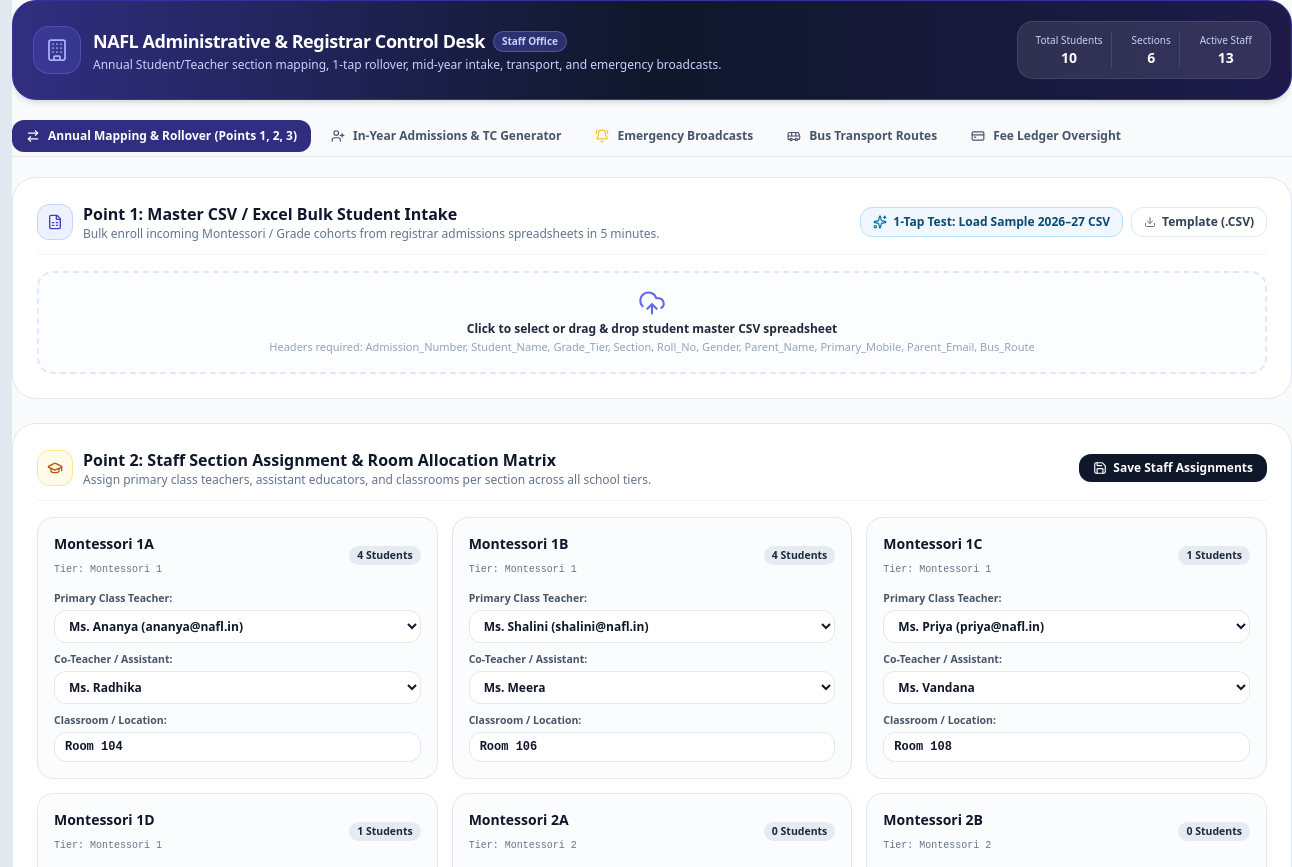
Test: Suite L: Admin Assistant & Registrar Operations (Annual Mapping & In-Year Admin) › Point 1: loads, parses, and commits master CSV student intake spreadsheet
Check: the text "Parsed Intake Preview" is not shown
Click 1-tap test load sample CSV button
Click the button "1-Tap Test: Load Sample 2026–27 CSV" at (992, 222), box [860,207,1123,237]
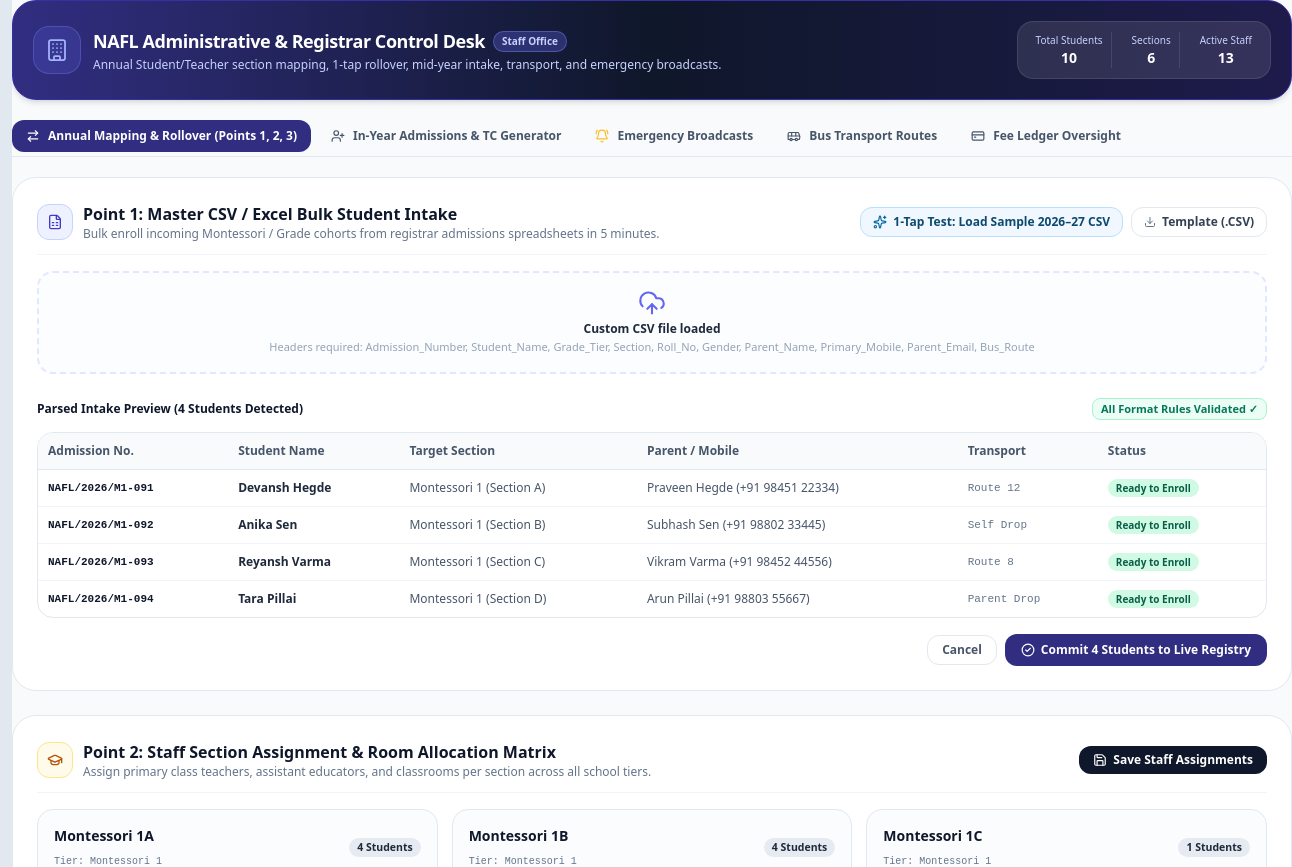
Check: the text "Parsed Intake Preview (4 Students Detected)" is shown, box [37,400,303,416]
Check: the text "All Format Rules Validated ✓" is shown, box [1092,398,1267,420]
Check: the text "NAFL/2026/M1-091" is shown, box [38,469,228,506]
Click Commit button
Click the button "Commit 4 Students to Live Registry" at (1136, 650), box [1005,634,1267,666]
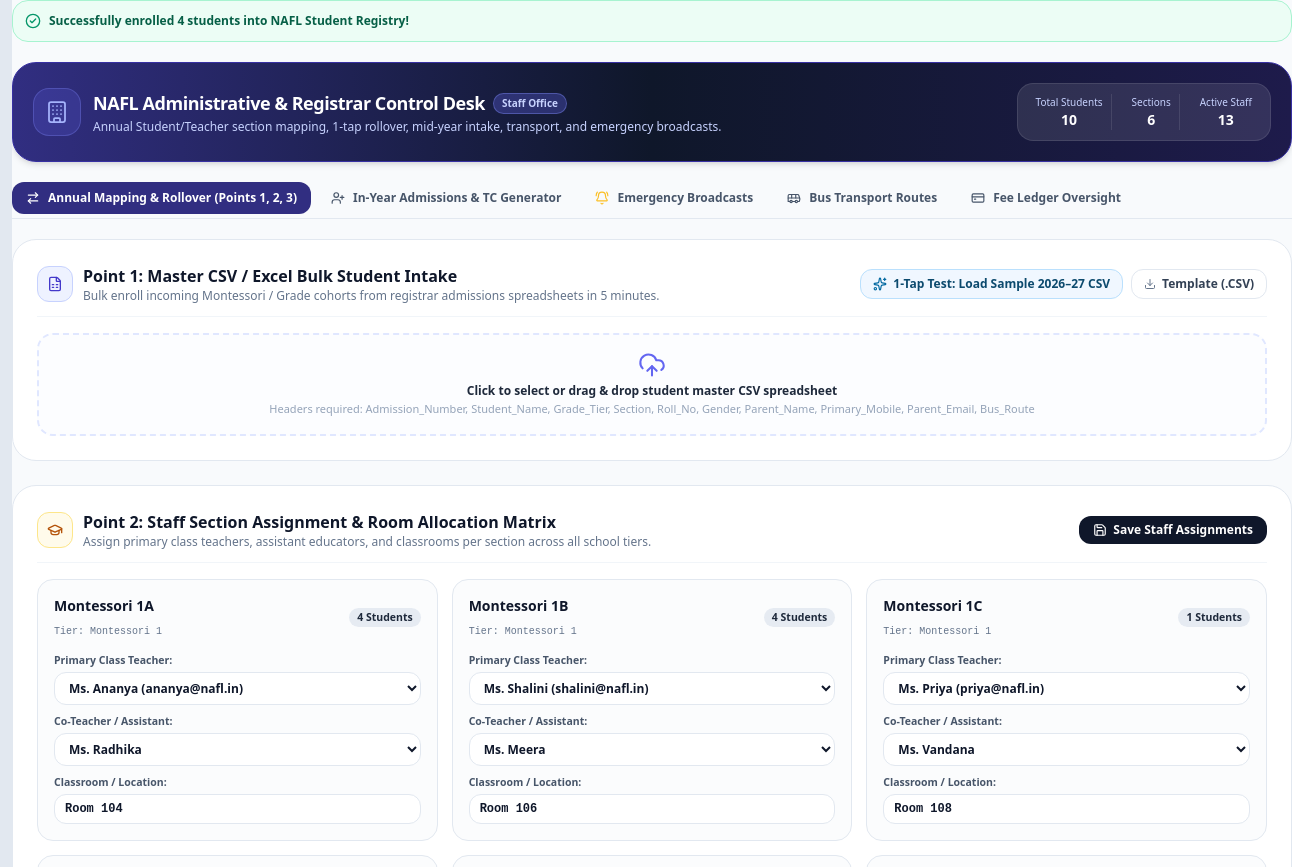
Check: the text "Successfully enrolled 4 students into NAFL Student Registry!" is shown, box [49,13,409,29]
